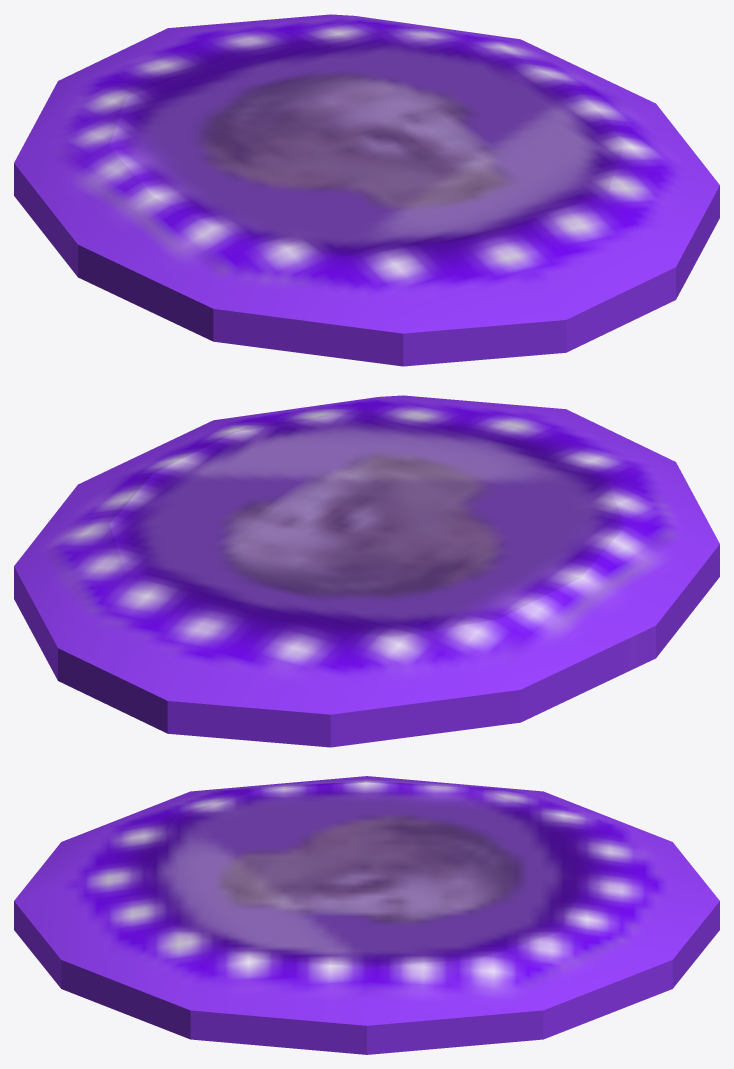
Rendered from broach_01.fbx.
3 renders of one model, top to bottom at view 1: azimuth 30°, elevation 25°; view 2: azimuth 150°, elevation 25°; view 3: azimuth 270°, elevation 25°, orthographic. The views are drawn at different scales.
Parts seen in each view (by area): view 1: pCylinder1; view 2: pCylinder1; view 3: pCylinder1.
Boxes of the visible parts, left/top/right/bottom form: pCylinder1: left=14, top=14, right=719, bottom=366; pCylinder1: left=14, top=395, right=719, bottom=747; pCylinder1: left=14, top=776, right=719, bottom=1054.
Bounding box in the file's own units: 0.0513 × 0.00528 × 0.0613.
